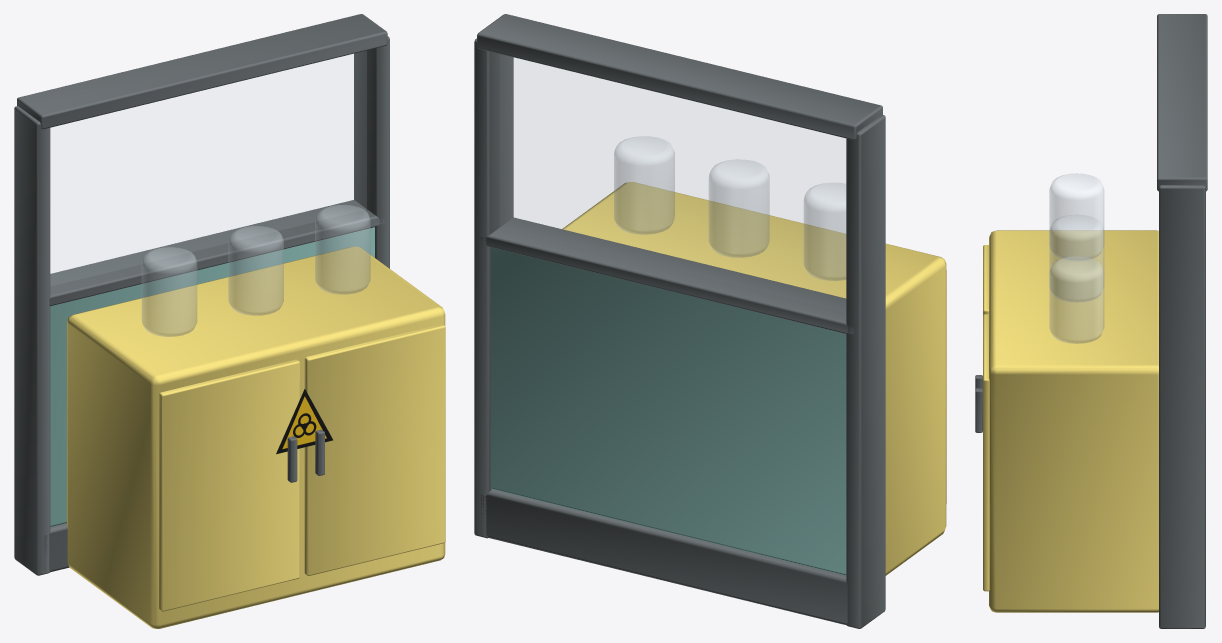
File: sala_armario.glb
3 renders of one model, left to right at view 1: azimuth 30°, elevation 25°; view 2: azimuth 150°, elevation 25°; view 3: azimuth 270°, elevation 25°, orthographic. The views are drawn at different scales.
Parts seen in each view (by area): view 1: armario, pared_vidrio, armario_puerta-1, armario_puerta1, pared_perfil-0.49, pared_remate, pared_canto, pared_panel, pared_perfil0.49, armario_garrafa1, armario_garrafa2, armario_garrafa0 (+2 smaller); view 2: pared_panel, pared_vidrio, armario, pared_perfil-0.49, pared_zocalo, pared_remate, pared_canto, pared_perfil0.49, armario_garrafa2, armario_garrafa1, armario_garrafa0; view 3: armario, pared_perfil0.49, pared_remate, armario_garrafa2, armario_garrafa1, armario_garrafa0, armario_puerta1, armario_puerta-1, armario_tirador1.
Boxes of the visible parts, x1,y1,x2,y2 form: armario: (67,246,445,628); pared_vidrio: (51,51,366,285); armario_puerta-1: (159,359,299,611); armario_puerta1: (304,324,445,575); pared_perfil-0.49: (14,106,50,575); pared_remate: (17,14,387,129); pared_canto: (49,200,385,306); pared_panel: (50,227,374,526); pared_perfil0.49: (354,36,389,268); armario_garrafa1: (228,226,283,315); armario_garrafa2: (315,205,370,294); armario_garrafa0: (142,247,196,336); pared_panel: (490,247,846,575); pared_vidrio: (500,55,845,311); armario: (562,182,946,575); pared_perfil-0.49: (846,114,885,628); pared_zocalo: (481,489,847,625); pared_remate: (477,14,882,140); pared_canto: (479,217,854,334); pared_perfil0.49: (474,38,513,538); armario_garrafa2: (614,136,674,234); armario_garrafa1: (709,159,769,257); armario_garrafa0: (804,183,845,280); armario: (989,230,1158,612); pared_perfil0.49: (1159,185,1205,628); pared_remate: (1157,14,1207,191); armario_garrafa2: (1049,256,1103,343); armario_garrafa1: (1049,215,1103,302); armario_garrafa0: (1049,173,1103,258); armario_puerta1: (983,314,989,591); armario_puerta-1: (983,245,988,315); armario_tirador1: (975,388,982,432).
Size of the model in its own units: 1.02 by 1.27 by 0.595.
Materials: 6 (1 with a texture image).
